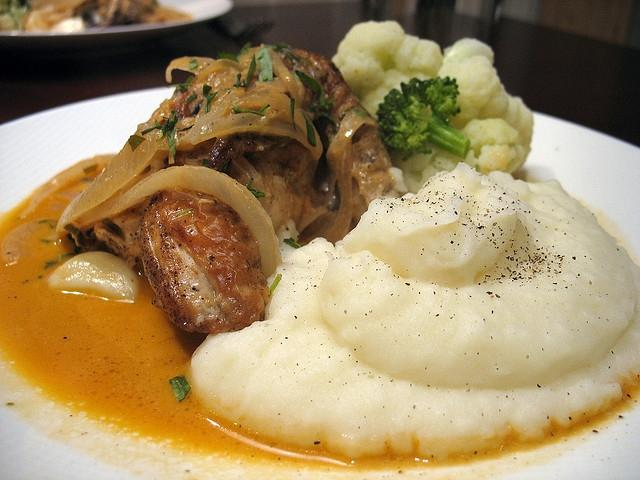broccoli: (376, 76, 471, 162), (0, 0, 32, 30)
cauliflower: (438, 38, 534, 169), (330, 21, 442, 122), (451, 118, 525, 176), (388, 147, 439, 173)
onion: (110, 165, 283, 279), (56, 122, 164, 238), (326, 110, 378, 244), (190, 113, 318, 161), (22, 153, 118, 217), (49, 252, 140, 304), (178, 88, 244, 146), (2, 219, 58, 266), (236, 88, 293, 126), (270, 50, 300, 108), (165, 57, 216, 84), (296, 206, 328, 234), (202, 70, 238, 82)
